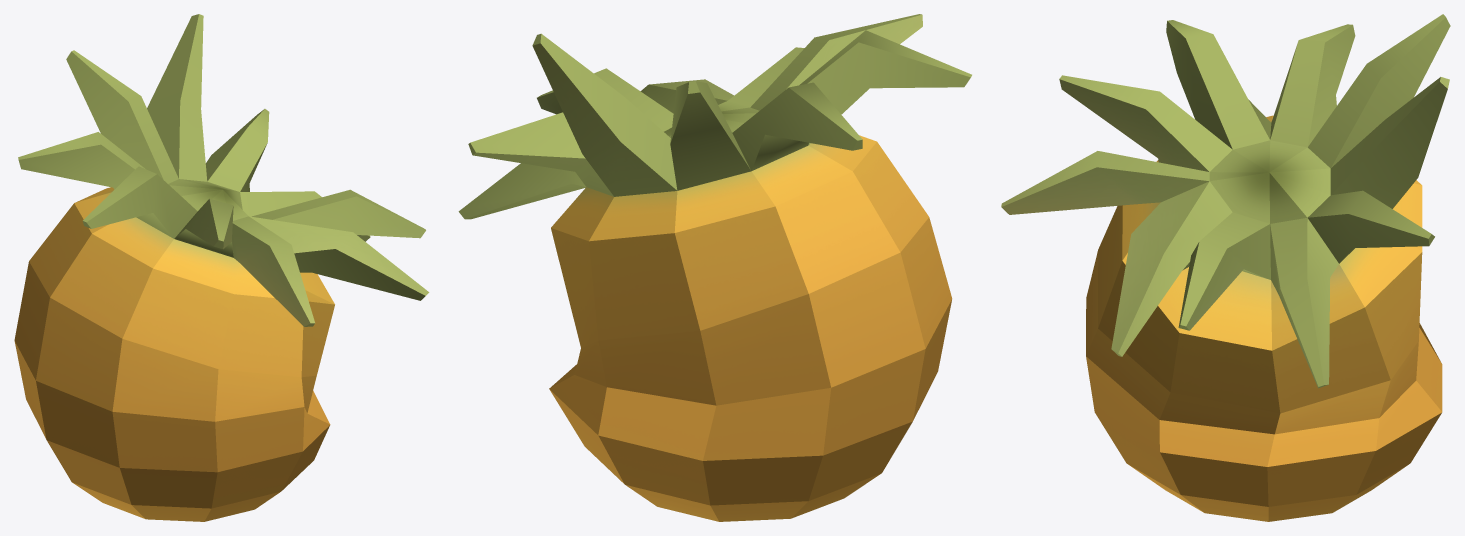
The model's file is pineapple_wilted1.fbx.
The picture shows the model from 3 angles, left to right: view 1: azimuth 30°, elevation 25°; view 2: azimuth 150°, elevation 25°; view 3: azimuth 270°, elevation 25°; orthographic projection. The views are drawn at different scales.
Parts seen in each view (by area): view 1: wilted1; view 2: wilted1; view 3: wilted1.
Part boxes in pixels (left/top/right/bottom): wilted1: left=14, top=14, right=429, bottom=521; wilted1: left=458, top=14, right=971, bottom=521; wilted1: left=1001, top=14, right=1450, bottom=521.
Size of the model in its own units: 19.64 by 21.43 by 18.68.
